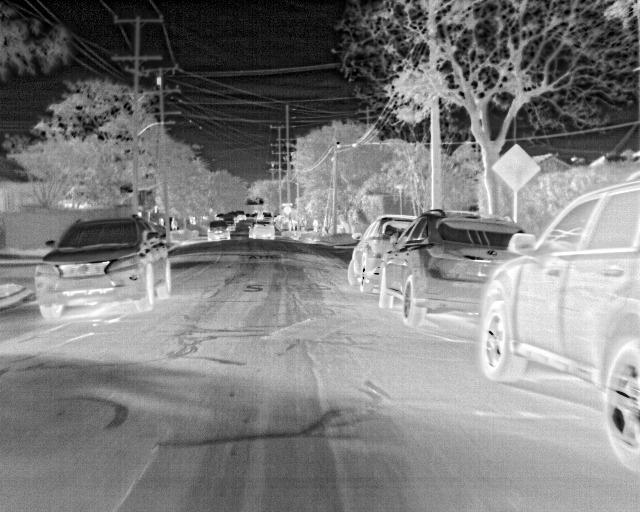car: (477, 166, 639, 477), (376, 210, 528, 324), (33, 214, 170, 325), (345, 213, 420, 291), (206, 220, 230, 244), (247, 220, 274, 241), (222, 214, 236, 227), (235, 210, 248, 222), (229, 212, 241, 224)
